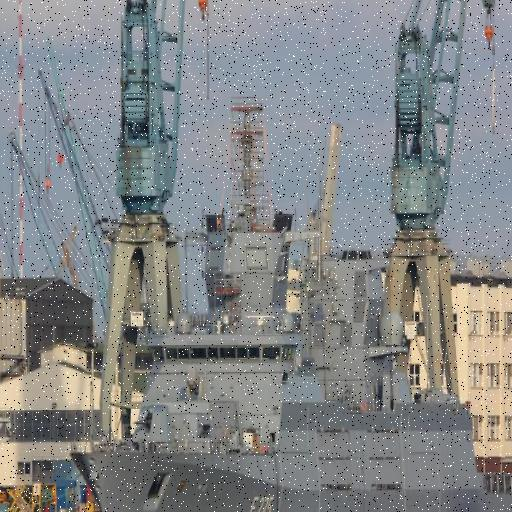Fragata: (68, 110, 512, 512)
